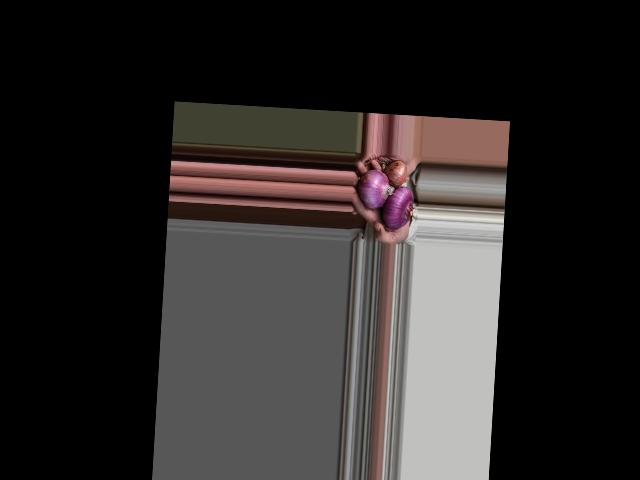onion: (384, 187, 413, 230)
